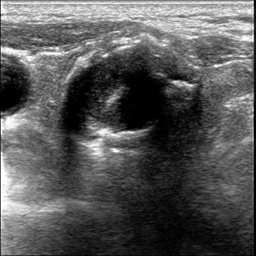mass: (37, 45, 205, 153)
